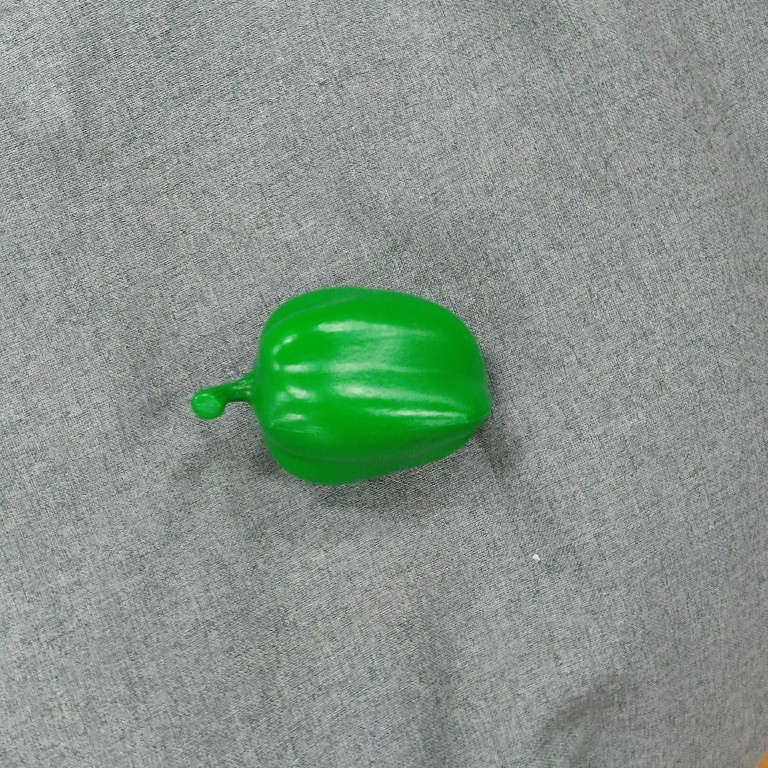fruit_pepper: (187, 283, 497, 489)
